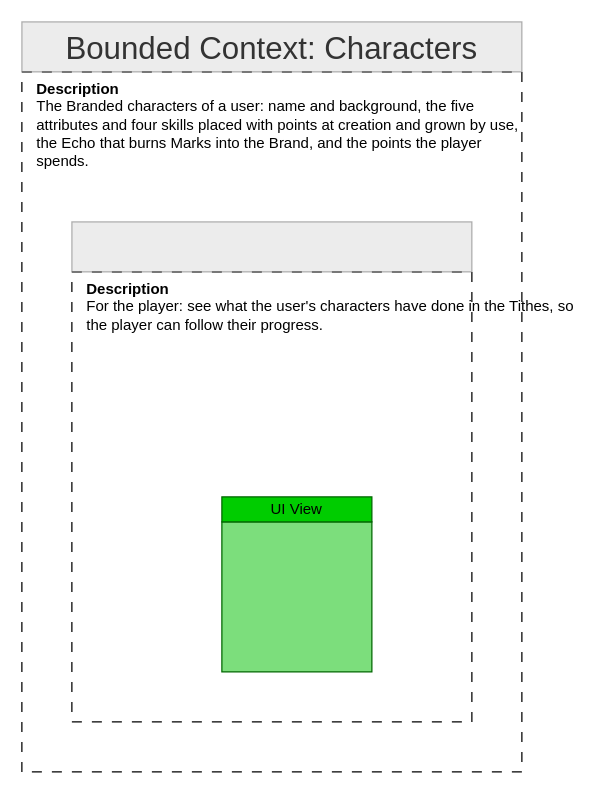
Some shapes in this 606 by 794 pixel diagram are drawn without their labels. Here are the shapes that lost their labels. From the top down, the centre of each, then its label:
(x=271, y=246): Use Case: View player statistics
(x=296, y=596): Player statistics Player
